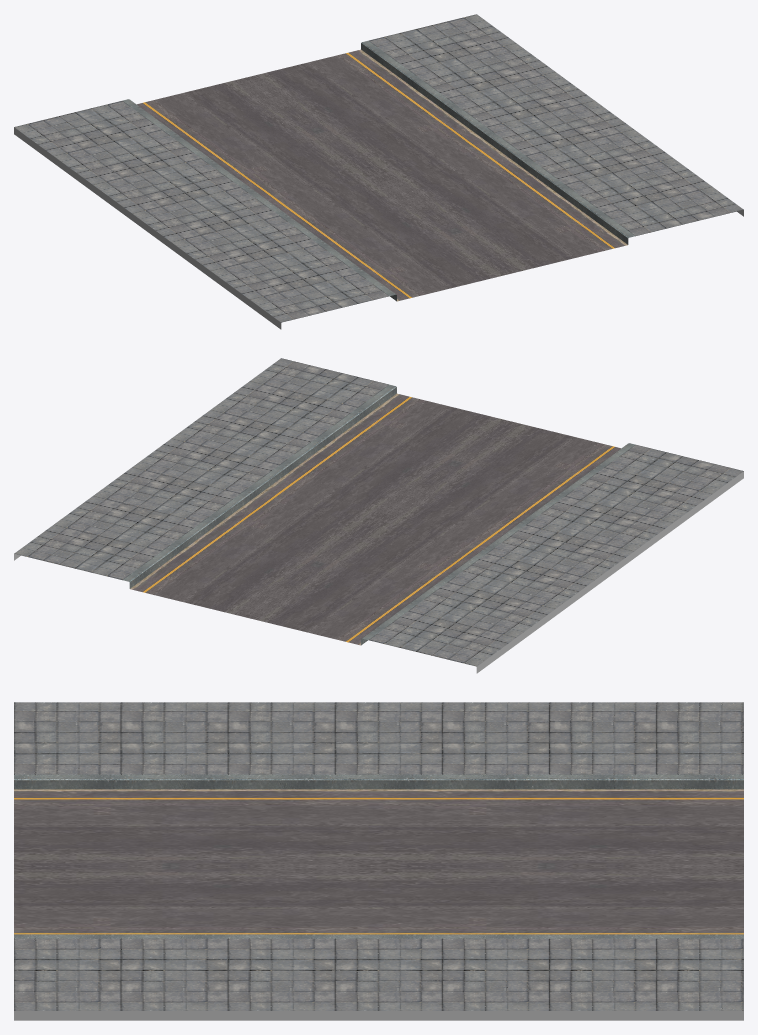
The model's file is road04.obj.
3 renders of one model, top to bottom at view 1: azimuth 30°, elevation 25°; view 2: azimuth 150°, elevation 25°; view 3: azimuth 270°, elevation 25°, orthographic. The views are drawn at different scales.
Visible parts, largest first — view 1: Plane.017; view 2: Plane.017; view 3: Plane.017.
Part boxes in pixels (x1,y1,x2,y2): Plane.017: (14,14,743,329); Plane.017: (14,358,743,673); Plane.017: (14,702,743,1020).
Bounding box in the file's own units: 2.29 × 0.0336 × 2.29.
5 materials, 4 textured.
